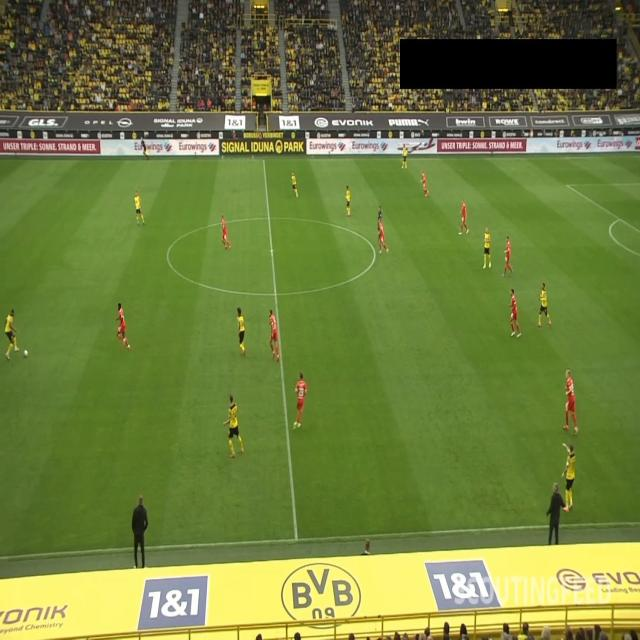ball: (23, 349, 28, 359)
